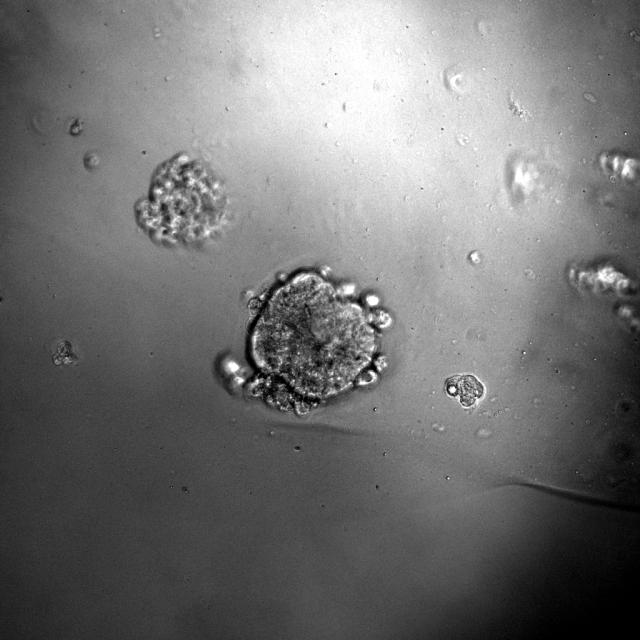organoid: (214, 262, 395, 419), (135, 153, 227, 246), (444, 373, 485, 411), (52, 341, 76, 366)
